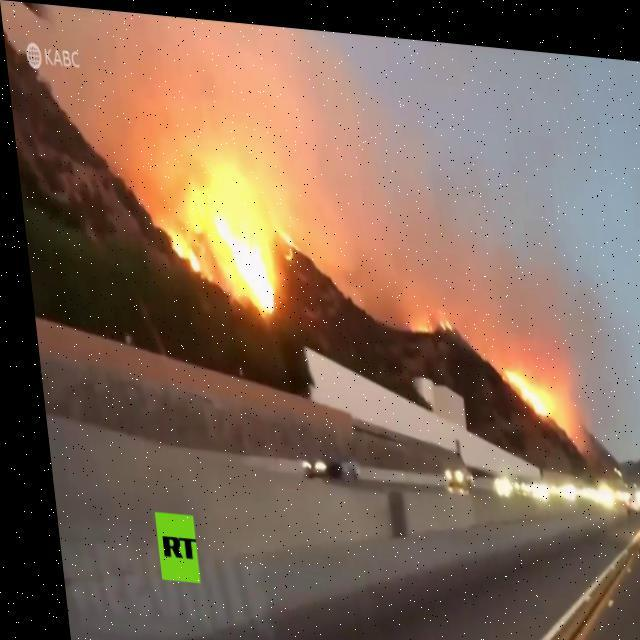Fire: (148, 142, 302, 326), (494, 358, 549, 408), (433, 306, 447, 324), (404, 314, 423, 326)
